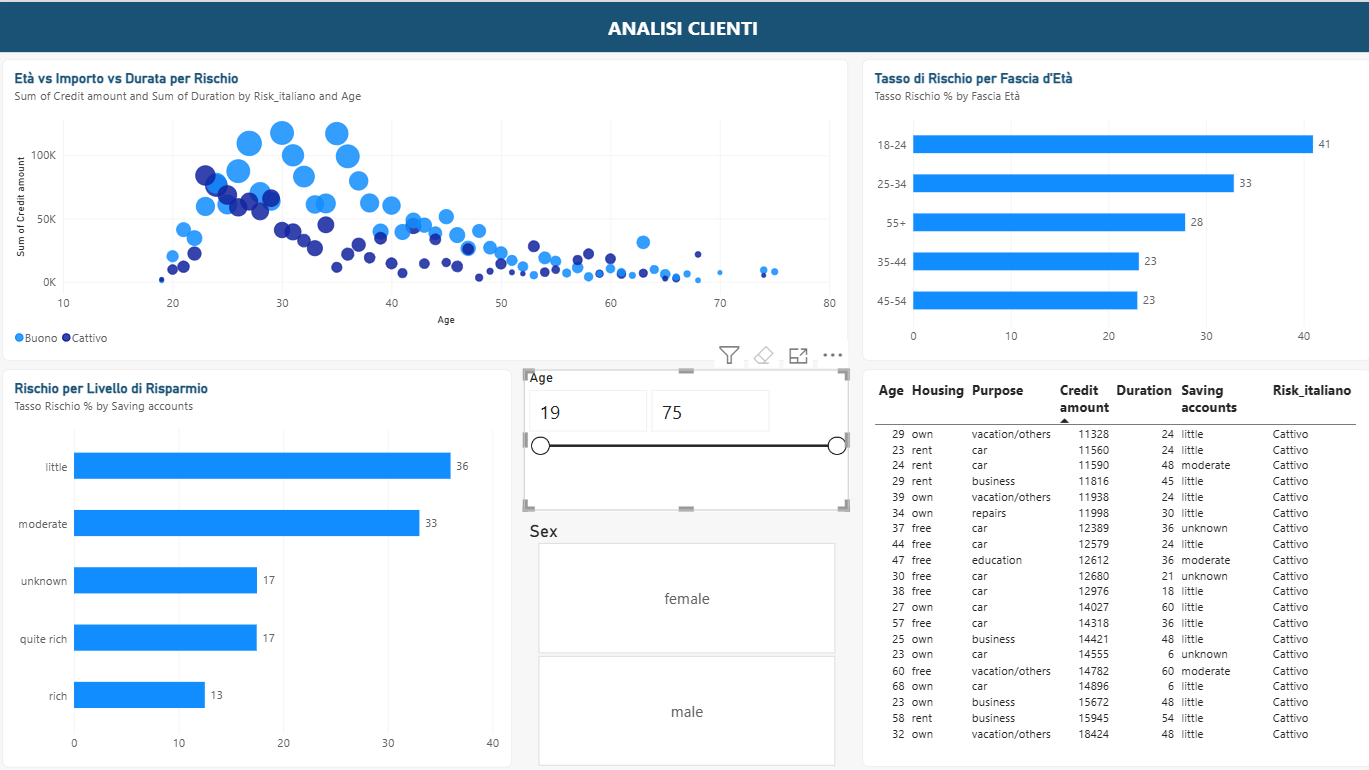

Layout of this report page (visuals, bound fields, positions):
{"tool":"powerbi","page":{"name":" Analisi Clienti","canvas":[1920,1080],"ordinal":1},"visuals":[{"type":"scatterChart","title":"Età vs Importo vs Durata per Rischio","fields":{"X":["credit_powerbi.Age"],"Y":["Sum(credit_powerbi.Credit amount)"],"Size":["Sum(credit_powerbi.Duration)"],"Series":["credit_powerbi.Risk_italiano"]},"box":[10,80,1180,420],"z":0},{"type":"barChart","title":"Tasso di Rischio per Fascia d''Età","fields":{"Category":["credit_powerbi.Fascia Età"],"Y":["credit_powerbi.Tasso Rischio %"]},"box":[1210.5,80.2,710,420],"z":1000},{"type":"barChart","title":"Rischio per Livello di Risparmio","fields":{"Category":["credit_powerbi.Saving accounts"],"Y":["credit_powerbi.Tasso Rischio %"]},"box":[10.5,512.8,710,555],"z":2000},{"type":"tableEx","fields":{"Values":["credit_powerbi.Age","credit_powerbi.Housing","credit_powerbi.Purpose","credit_powerbi.Credit amount","credit_powerbi.Duration","credit_powerbi.Saving accounts","credit_powerbi.Risk_italiano"]},"box":[1210.5,512.8,709.9,554.7],"z":3000},{"type":"slicer","fields":{"Values":["credit_powerbi.Age"]},"box":[737.8,512.8,453.5,197.1],"z":4000},{"type":"slicer","fields":{"Values":["credit_powerbi.Sex"]},"box":[737.8,723.8,453.5,343.6],"z":5000},{"type":"shape","box":[0,0,1920.4,70],"z":6000}]}

Visuals, with their boxes in screenshot pixels (x1, y1, x2, y2), scaled from the page's 1920x1080 canvas onto the 1369x770 screenshot:
"Età vs Importo vs Durata per Rischio" scatterChart: <bbox>7, 57, 848, 356</bbox>
"Tasso di Rischio per Fascia d''Età" barChart: <bbox>863, 57, 1368, 357</bbox>
"Rischio per Livello di Risparmio" barChart: <bbox>7, 366, 514, 761</bbox>
tableEx - credit_powerbi.Age x credit_powerbi.Housing: <bbox>863, 366, 1368, 761</bbox>
slicer - credit_powerbi.Age: <bbox>526, 366, 849, 506</bbox>
slicer - credit_powerbi.Sex: <bbox>526, 516, 849, 761</bbox>
shape: <bbox>0, 0, 1368, 50</bbox>
